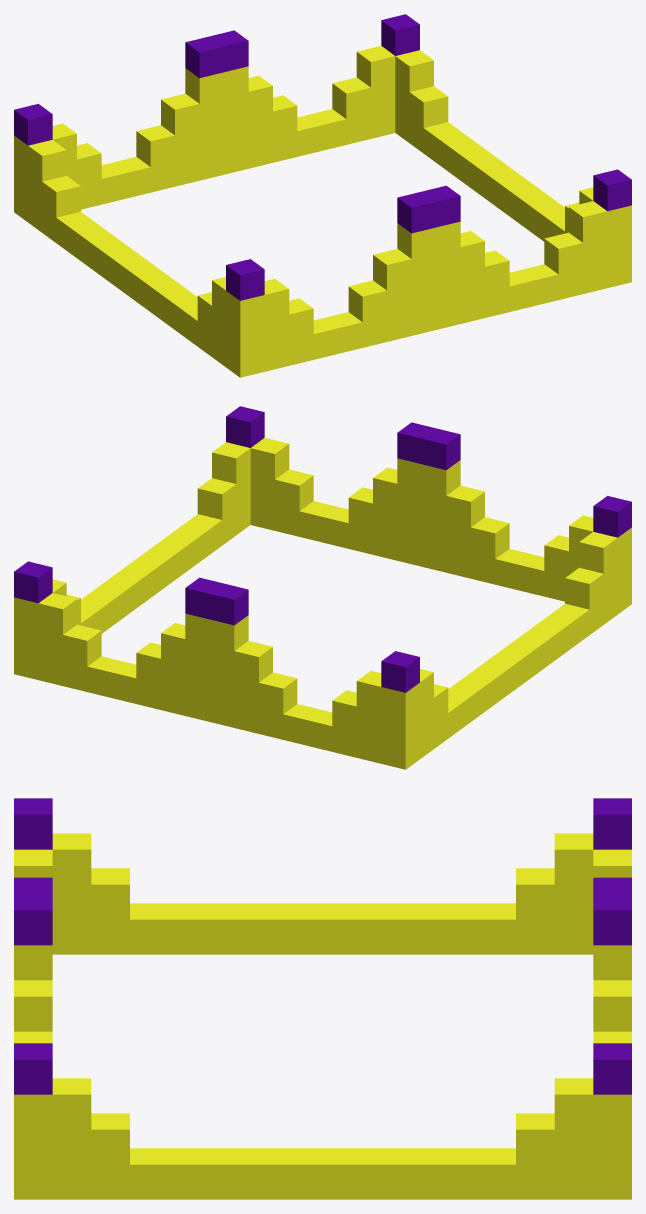
The model's file is ThorNivel5-0.obj.
3 renders of one model, top to bottom at view 1: azimuth 30°, elevation 25°; view 2: azimuth 150°, elevation 25°; view 3: azimuth 270°, elevation 25°, orthographic. The views are drawn at different scales.
Bounding box in the file's own units: 1.6 × 0.5 × 1.6.
Materials: 1 (1 with a texture image).
